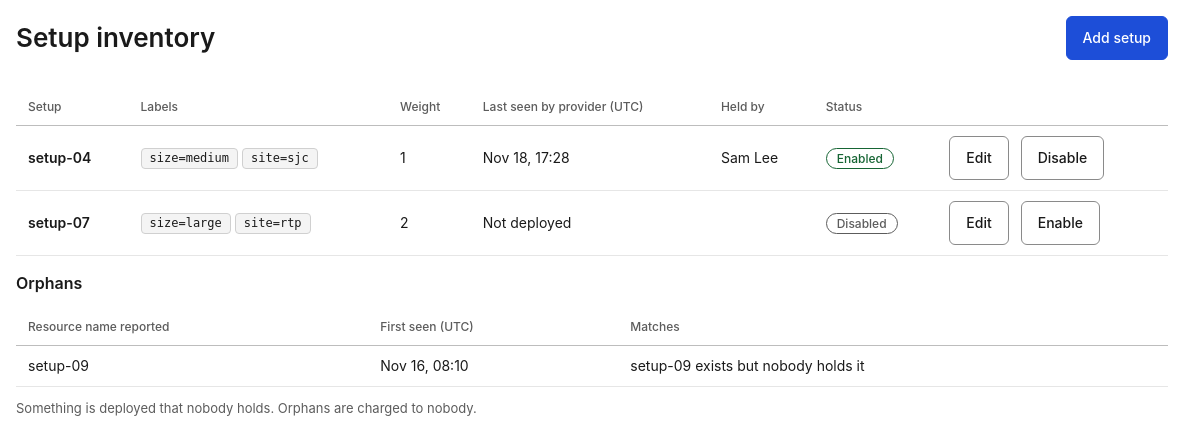
SET-5 disable, delete, force-release › shows has_active_hold when disabling a held setup is refused
The width and height of the screenshot is (1185, 433).
What coordinates should you click on to do the following:
click the button with aria-label "Disable setup-04"
I would click on:
 (1062, 158)
Its box is [1021,136,1104,180].
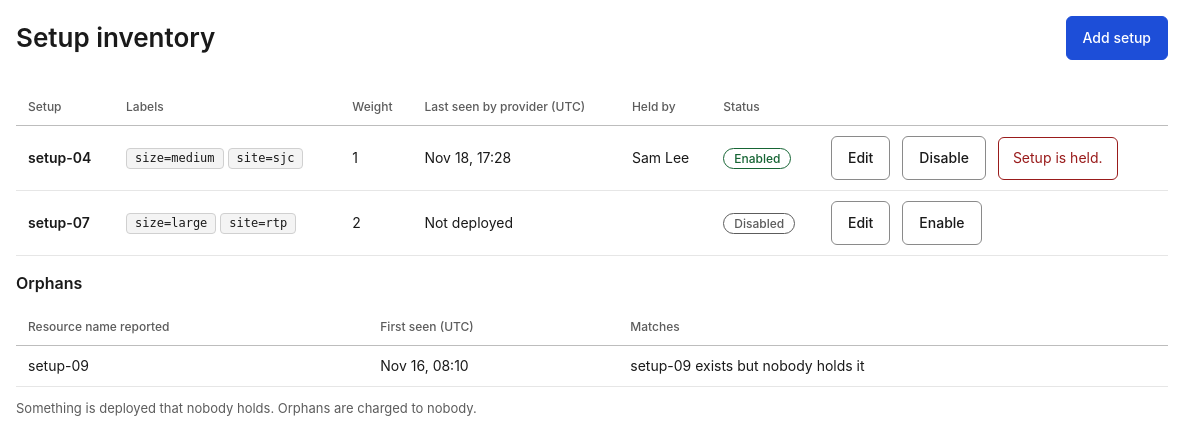
expect the text "Setup is held." is shown: met, box [998,137,1118,180]
